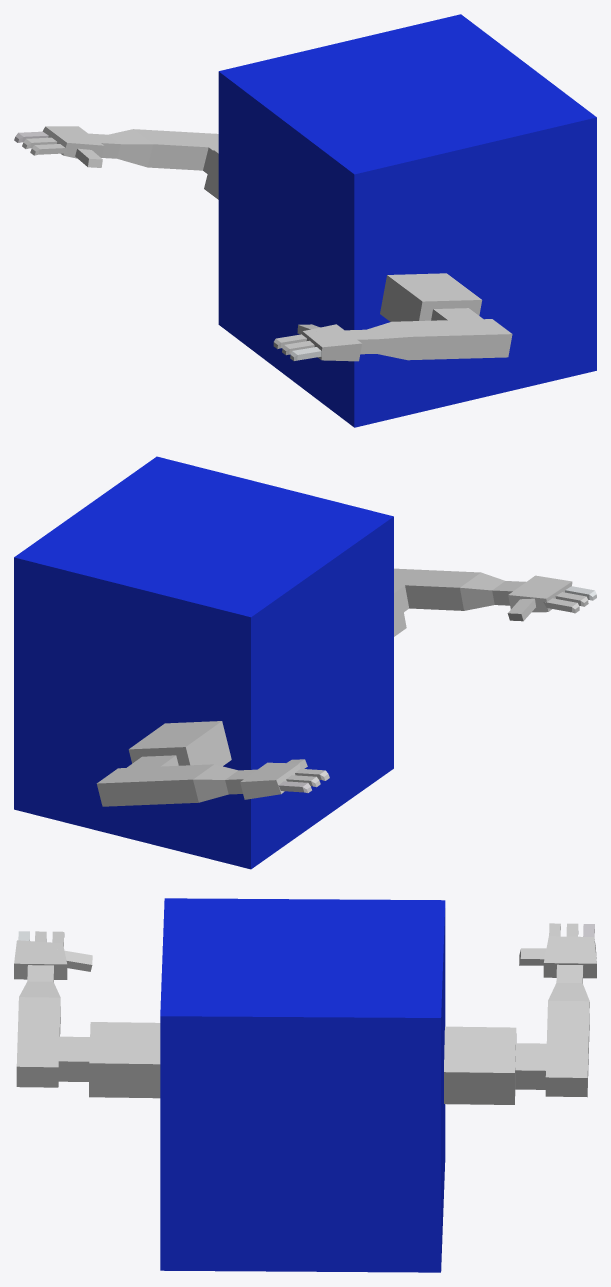
File: BlockHorormeleePlaceholder.fbx
The picture shows the model from 3 angles, top to bottom: view 1: azimuth 30°, elevation 25°; view 2: azimuth 150°, elevation 25°; view 3: azimuth 270°, elevation 25°; orthographic projection.
Visible parts, largest first — view 1: Cube, Cube.008; view 2: Cube, Cube.008; view 3: Cube, Cube.008.
Part boxes in pixels (x1,y1,x2,y2): Cube: (218, 14, 596, 427); Cube.008: (14, 126, 512, 361); Cube: (14, 456, 393, 869); Cube.008: (96, 568, 596, 806); Cube: (160, 898, 445, 1272); Cube.008: (14, 923, 596, 1104).
Size of the model in its own units: 448 by 288 by 598.
